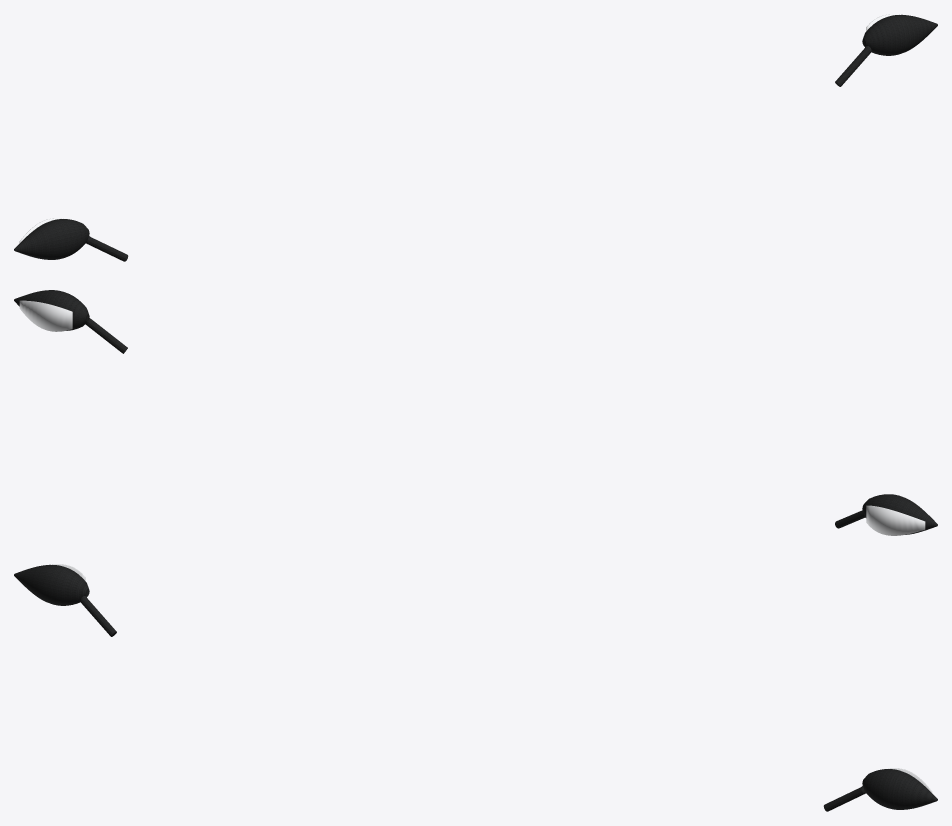
File: DT49_aero_mirrors.glb
The picture shows the model from 3 angles, top to bottom: view 1: azimuth 30°, elevation 25°; view 2: azimuth 150°, elevation 25°; view 3: azimuth 330°, elevation 25°; orthographic projection.
Parts seen in each view (by area): view 1: MOD_NA_DT49_head_R, MOD_NA_DT49_head_L; view 2: MOD_NA_DT49_glass_R, MOD_NA_DT49_glass_L, MOD_NA_DT49_head_L, MOD_NA_DT49_head_R; view 3: MOD_NA_DT49_head_L, MOD_NA_DT49_head_R.
Boxes of the visible parts, box(x1,y1,x2,y2) form: MOD_NA_DT49_head_R: box(14, 219, 89, 259); MOD_NA_DT49_head_L: box(862, 14, 937, 55); MOD_NA_DT49_glass_R: box(866, 505, 925, 535); MOD_NA_DT49_glass_L: box(19, 300, 72, 331); MOD_NA_DT49_head_L: box(14, 290, 89, 330); MOD_NA_DT49_head_R: box(862, 494, 937, 534); MOD_NA_DT49_head_L: box(862, 769, 937, 809); MOD_NA_DT49_head_R: box(14, 564, 89, 605).
Size of the model in its own units: 1.89 by 0.0997 by 0.0656.
Materials: 2 (1 with a texture image).
